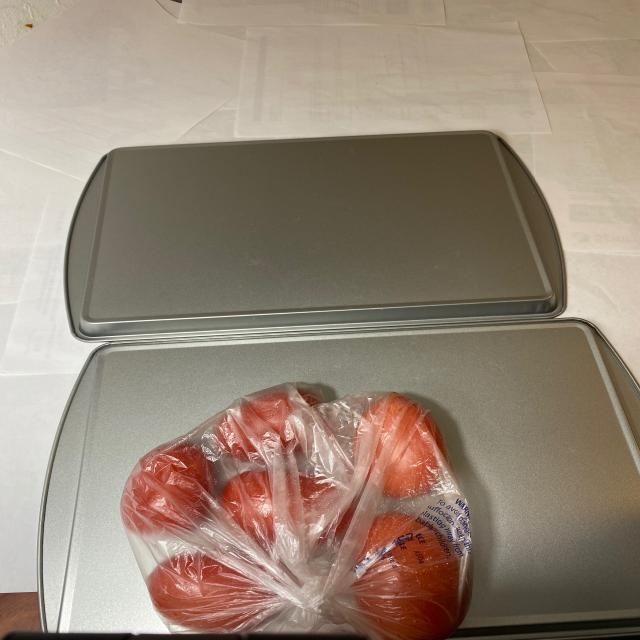tomato: (115, 391, 469, 636)
